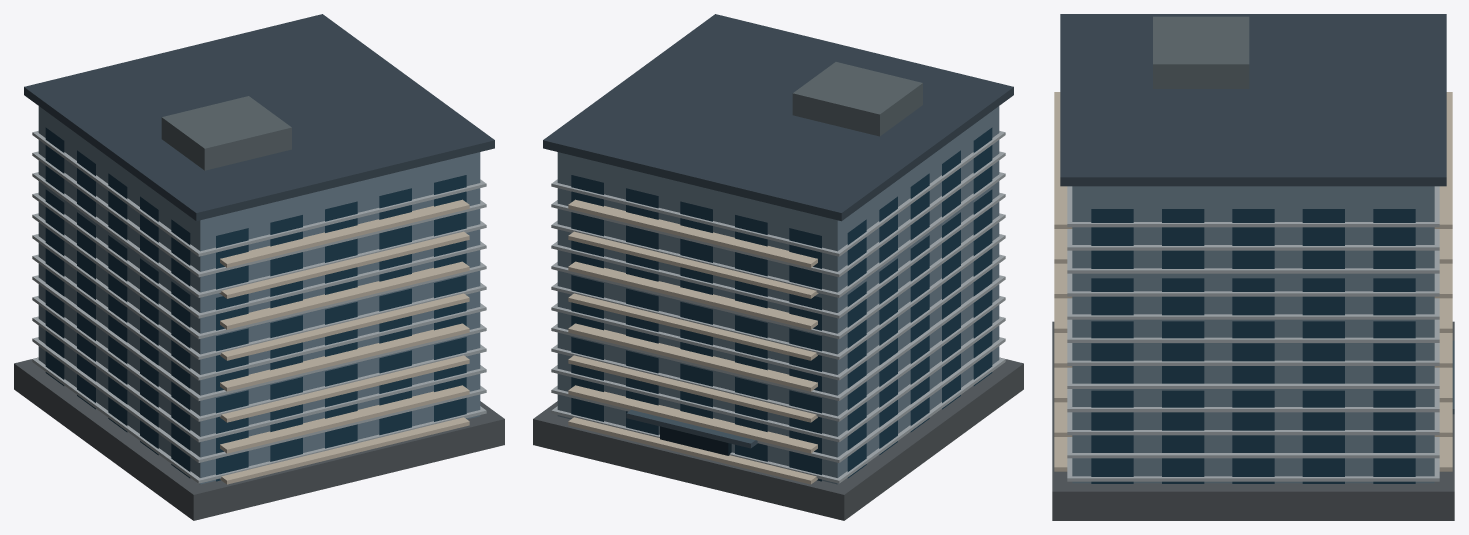
Rendered from district-kit.glb.
3 views of the same model, side by side, from view 1: azimuth 30°, elevation 25°; view 2: azimuth 150°, elevation 25°; view 3: azimuth 270°, elevation 25° (orthographic). The views are drawn at different scales.
Parts seen in each view (by area): view 1: District0, District1, District2; view 2: District0, District1, District2; view 3: District0, District1, District2.
Boxes of the visible parts, box(x1,y1,x2,y2) form: District0: box(14, 14, 504, 520); District1: box(45, 135, 469, 484); District2: box(45, 148, 466, 481); District0: box(533, 14, 1023, 520); District1: box(568, 136, 992, 484); District2: box(571, 148, 992, 481); District0: box(1052, 14, 1454, 520); District1: box(1054, 92, 1452, 476); District2: box(1091, 232, 1415, 483).
Bounding box in the file's own units: 1 × 1 × 1.
